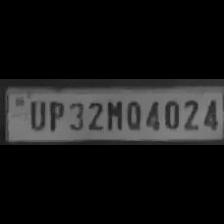0: (160, 97, 180, 131)
2: (180, 96, 200, 132), (84, 98, 104, 132)
3: (65, 98, 84, 132)
4: (198, 96, 220, 130), (142, 97, 160, 131)
M: (104, 98, 122, 132)
P: (46, 98, 64, 132)
Q: (124, 97, 142, 130)
U: (24, 97, 46, 130)
